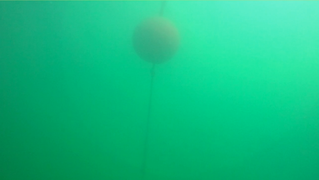buoy: (131, 16, 180, 64)
